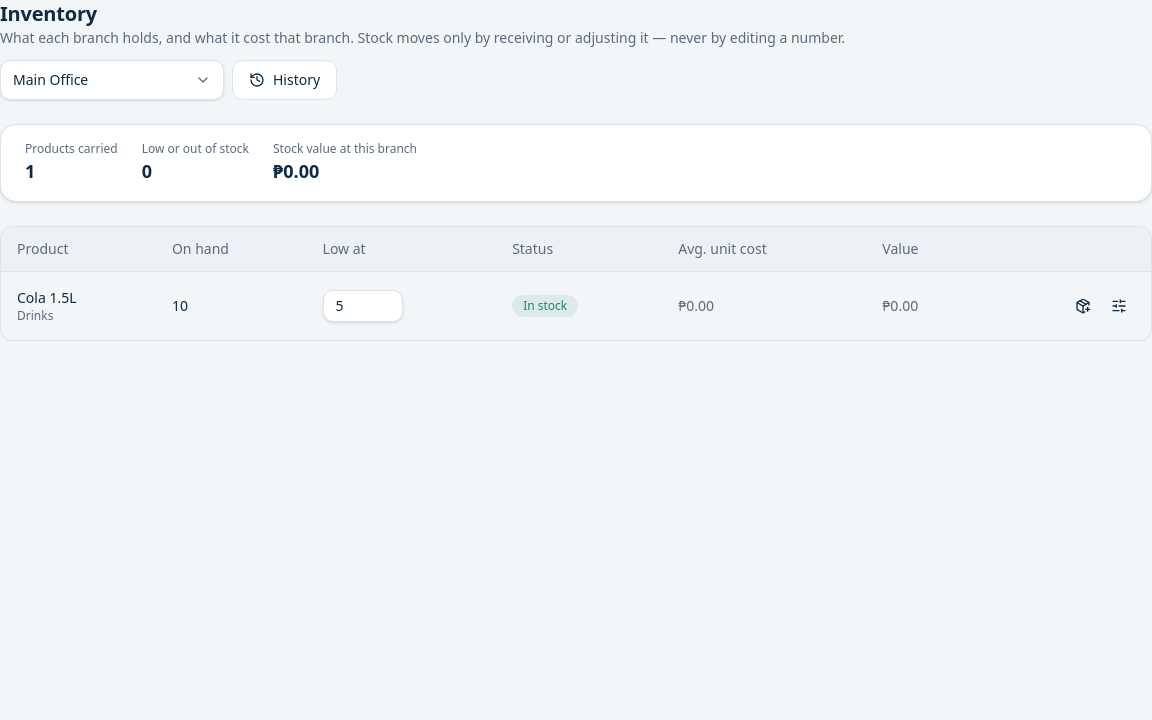
it: receiving a delivery › says the enterprise default cost is not affected
Click the button named "Receive Cola 1.5L" at (1083, 306), box [1067, 290, 1099, 322]
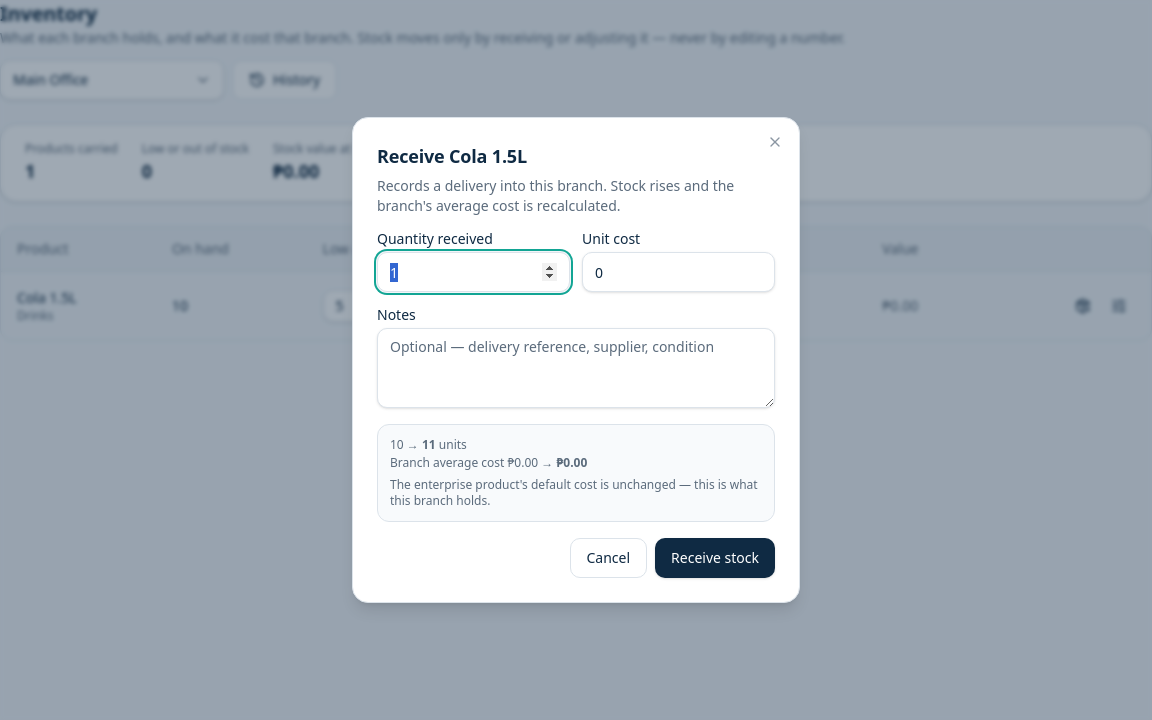
Expected: the text "default cost is unchanged" is shown, [390, 476, 758, 509]
